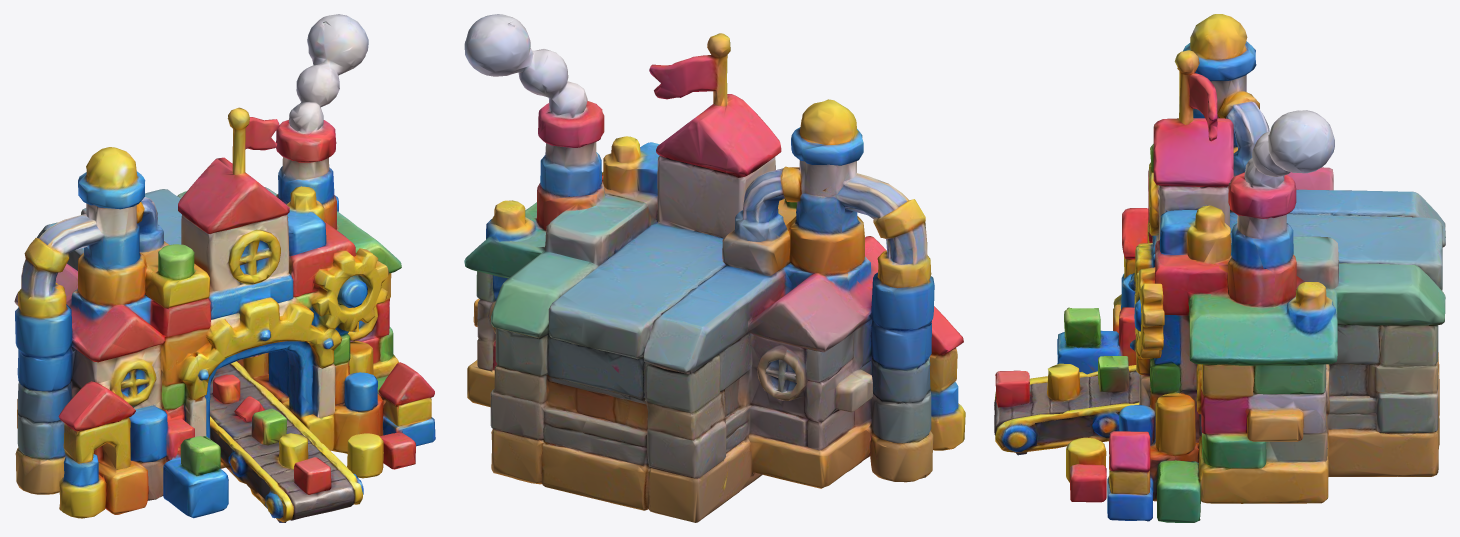
File: b_block_factory.glb
The picture shows the model from 3 angles, left to right: view 1: azimuth 30°, elevation 25°; view 2: azimuth 150°, elevation 25°; view 3: azimuth 270°, elevation 25°; orthographic projection. The views are drawn at different scales.
Bounding box in the file's own units: 1 × 0.9156 × 0.9267.
1 material, 1 textured.
